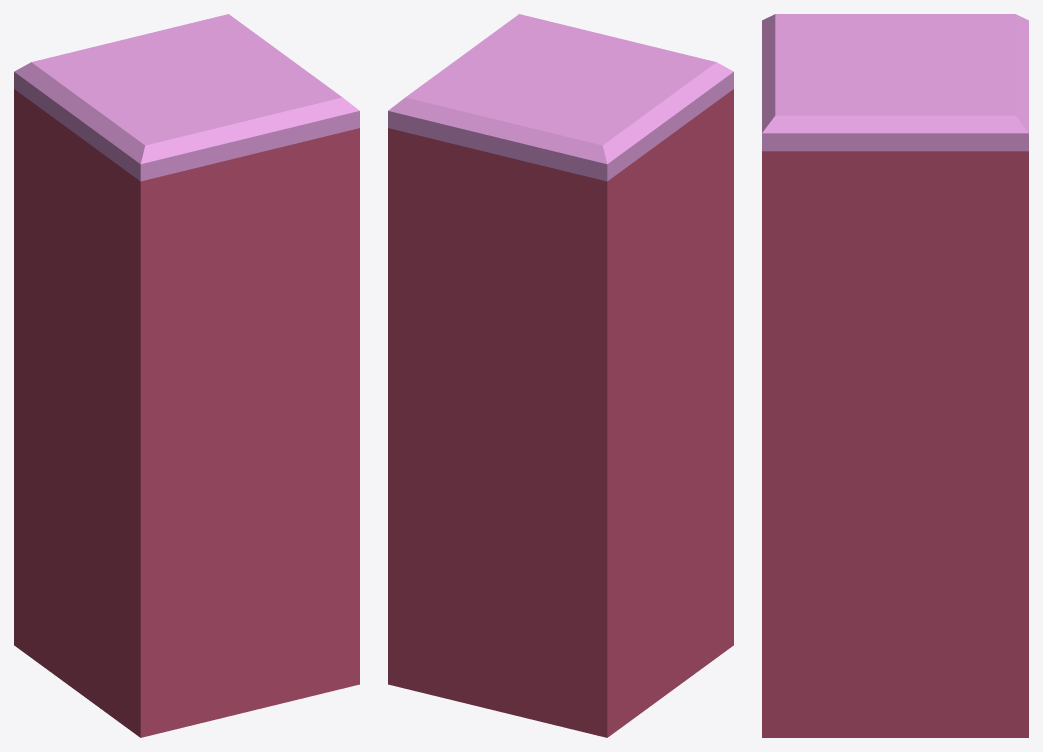
Rendered from Path2.fbx.
3 renders of one model, left to right at view 1: azimuth 30°, elevation 25°; view 2: azimuth 150°, elevation 25°; view 3: azimuth 270°, elevation 25°, orthographic. The views are drawn at different scales.
Visible parts, largest first — view 1: Cube; view 2: Cube; view 3: Cube.
Part boxes in pixels (x1=…): Cube: x1=14, y1=14, x2=359, y2=737; Cube: x1=388, y1=14, x2=733, y2=737; Cube: x1=762, y1=14, x2=1028, y2=737.
Bounding box in the file's own units: 2 × 5.1 × 2.
